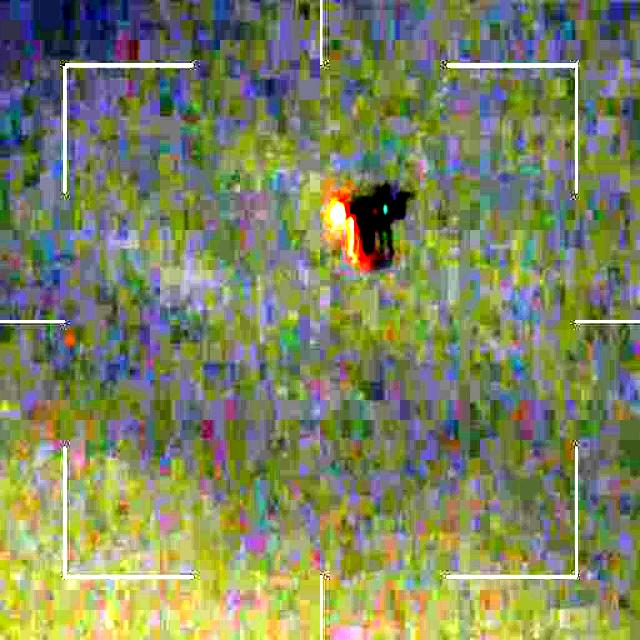bird: (322, 181, 411, 265)
